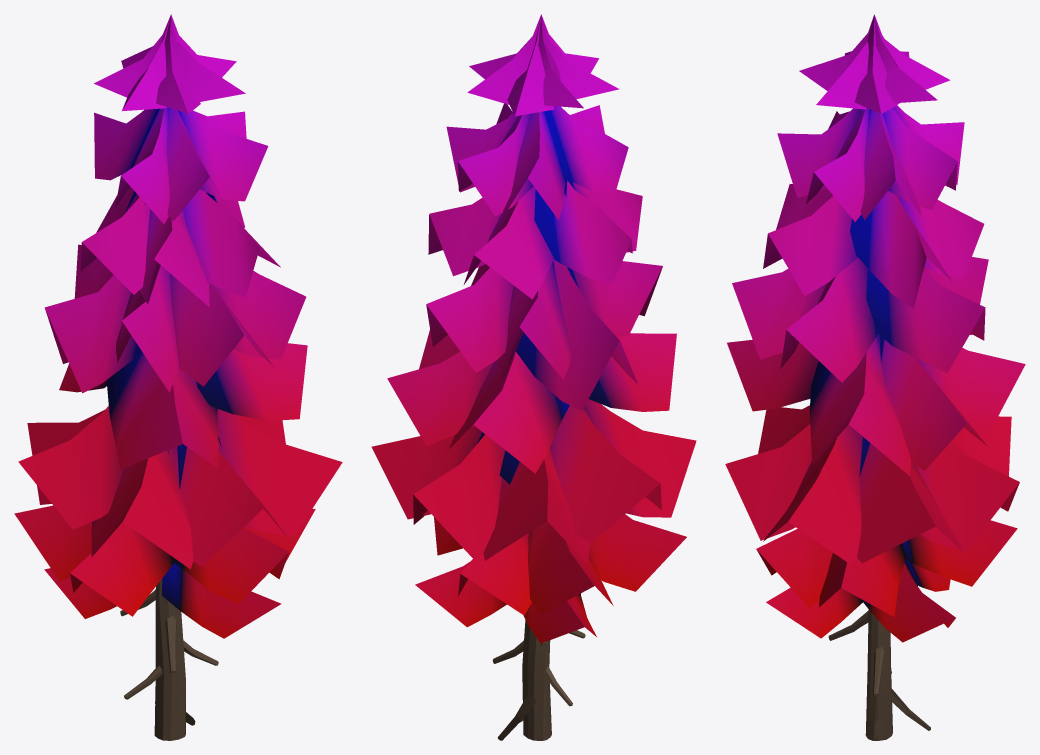
File: PT_Pine_Tree_03_green_cut.fbx
3 views of the same model, side by side, from view 1: azimuth 30°, elevation 25°; view 2: azimuth 150°, elevation 25°; view 3: azimuth 270°, elevation 25° (orthographic).
Visible parts, largest first — view 1: PT_Pine_Tree_03_green_cut; view 2: PT_Pine_Tree_03_green_cut; view 3: PT_Pine_Tree_03_green_cut.
Part boxes in pixels (x1,y1,x2,y2): PT_Pine_Tree_03_green_cut: (14,14,342,740); PT_Pine_Tree_03_green_cut: (371,14,696,740); PT_Pine_Tree_03_green_cut: (725,14,1025,740).
Size of the model in its own units: 321 by 802 by 303.
